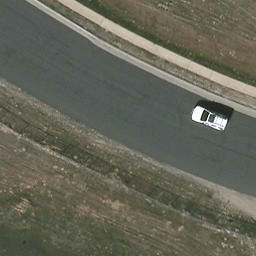car: (191, 106, 230, 133)
